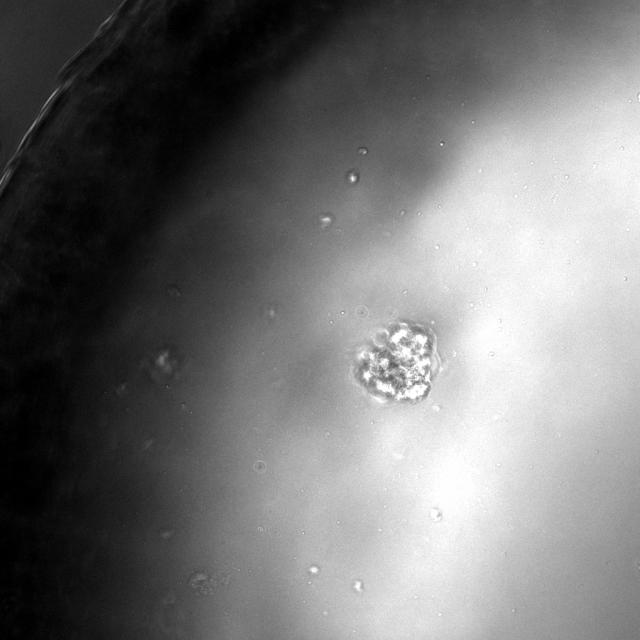organoid: (351, 321, 440, 404)
